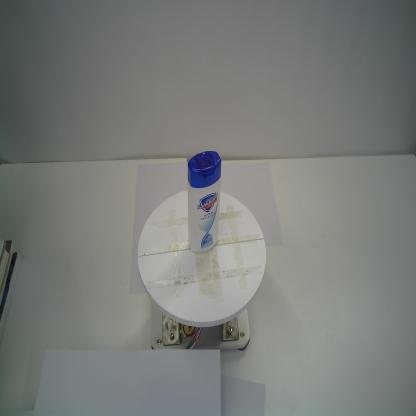Personal Hygiene: (187, 150, 221, 254)
